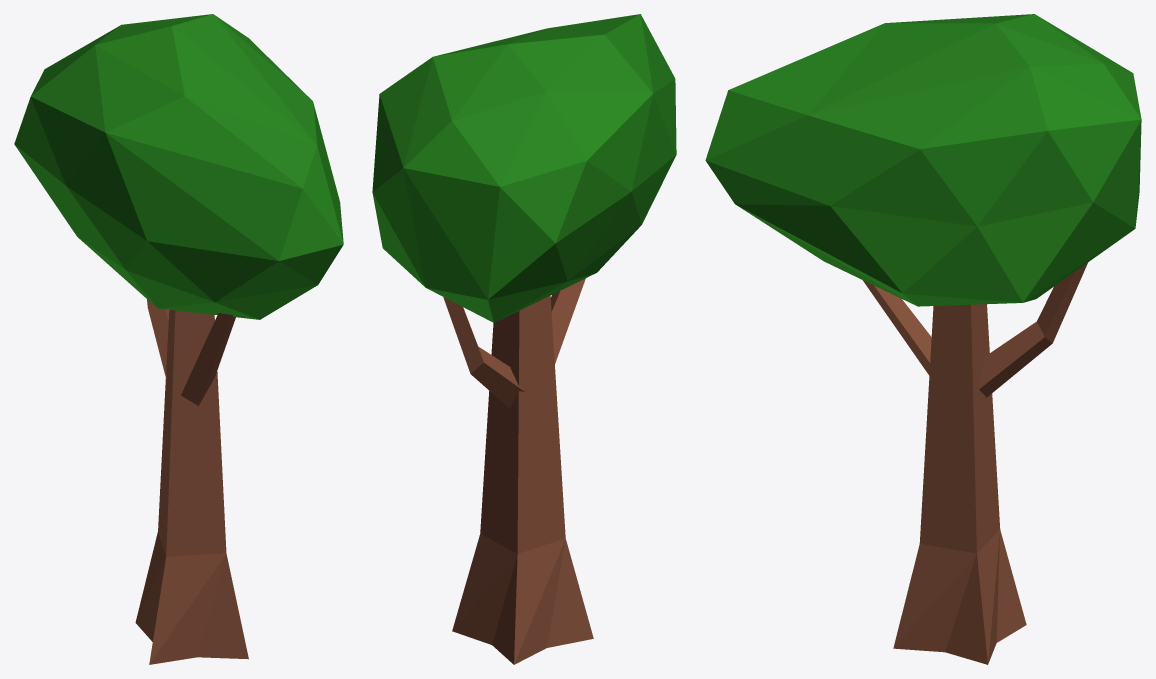
File: Tree_37_summer_mat.fbx
The picture shows the model from 3 angles, left to right: view 1: azimuth 30°, elevation 25°; view 2: azimuth 150°, elevation 25°; view 3: azimuth 270°, elevation 25°; orthographic projection.
Visible parts, largest first — view 1: Tree_37_summer_mat; view 2: Tree_37_summer_mat; view 3: Tree_37_summer_mat.
Boxes of the visible parts, left/top/right/bottom form: Tree_37_summer_mat: left=14, top=14, right=343, bottom=664; Tree_37_summer_mat: left=372, top=14, right=676, bottom=664; Tree_37_summer_mat: left=705, top=14, right=1141, bottom=664.
Bounding box in the file's own units: 3.75 × 9.34 × 6.03.
